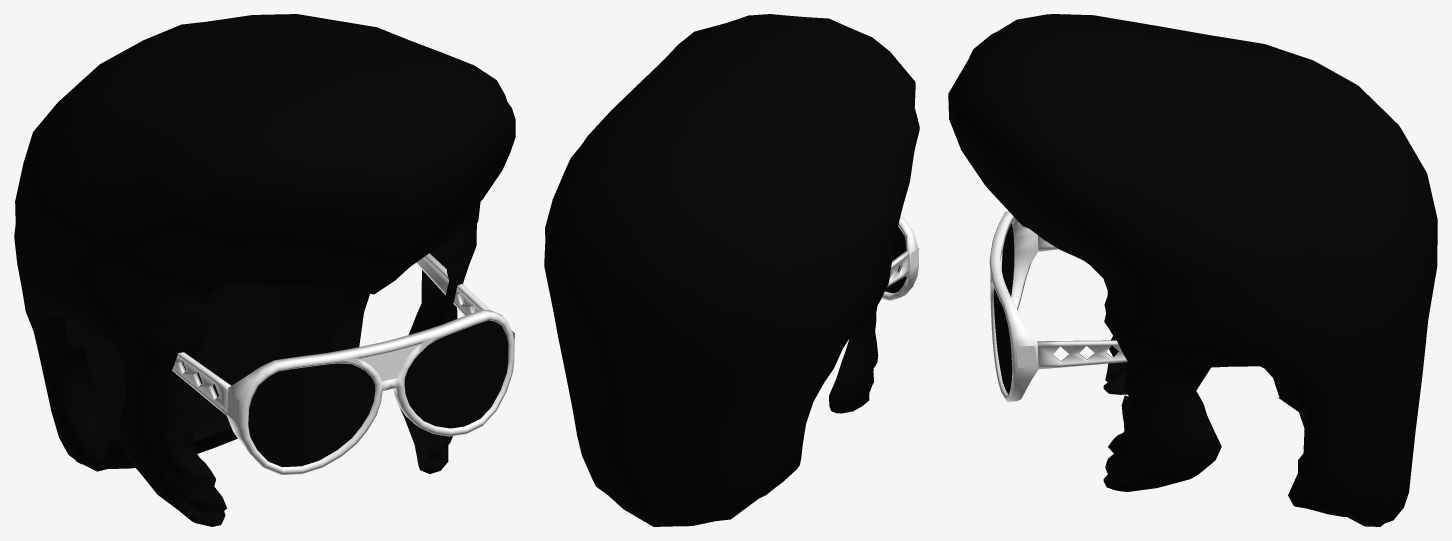
File: SurvivorMale_Head_Mask_Rockstar_LOD0.glb
3 views of the same model, side by side, from view 1: azimuth 30°, elevation 25°; view 2: azimuth 150°, elevation 25°; view 3: azimuth 270°, elevation 25° (orthographic). The views are drawn at different scales.
Parts seen in each view (by area): view 1: Hoodie; view 2: Hoodie; view 3: Hoodie.
Part boxes in pixels (x1,y1,x2,y2): Hoodie: [14, 14, 515, 526]; Hoodie: [544, 14, 919, 526]; Hoodie: [948, 14, 1437, 526].
Size of the model in its own units: 0.2072 by 0.2569 by 0.241.
1 material, 1 textured.
